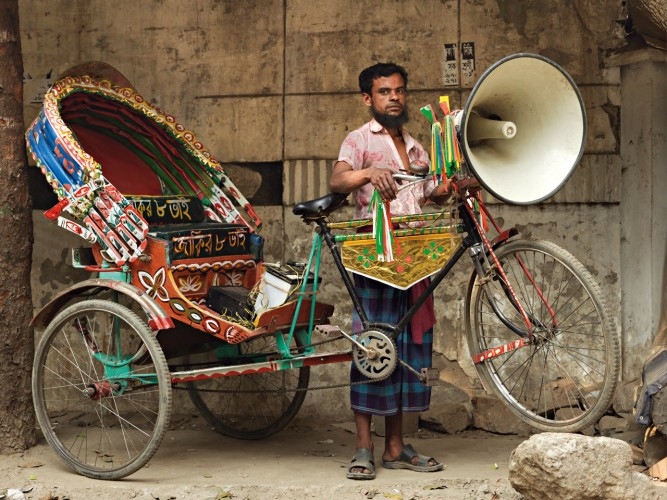Rickshaw: (23, 69, 609, 475)
